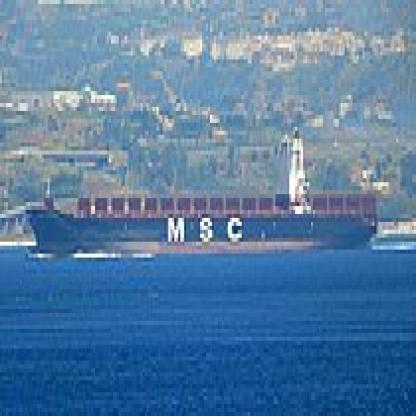Tanker: (21, 214, 370, 264)
